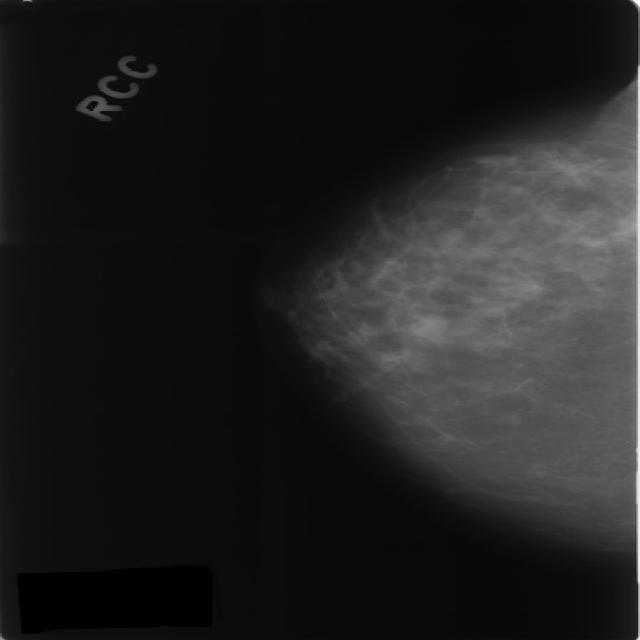tumour: (404, 312, 446, 338)
